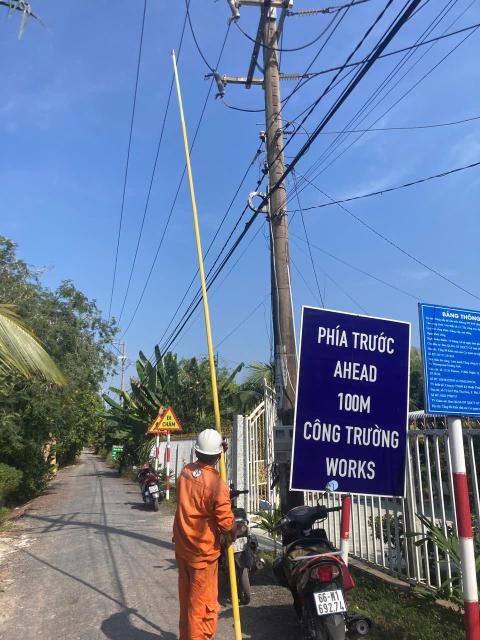helmet: (191, 423, 234, 467)
